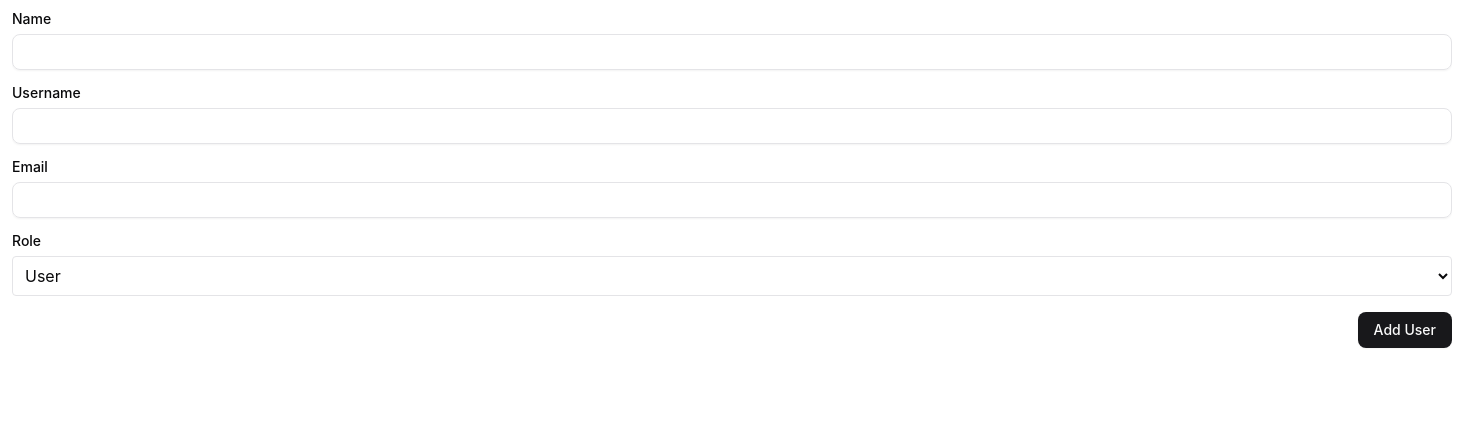
Test: AddUserForm › shows validation errors if submitted empty
Click the button "Add User" at (1405, 330), box [1358, 312, 1452, 348]
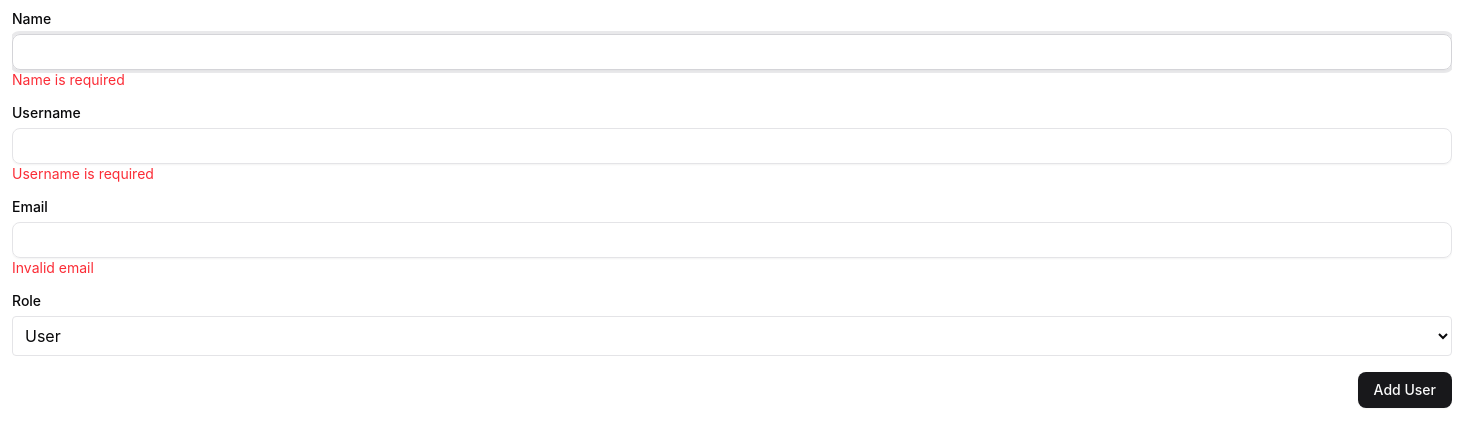
Check: the text "Name is required" is shown, box [12, 71, 125, 88]
Check: the text "Username is required" is shown, box [12, 165, 154, 182]
Check: the text "Invalid email" is shown, box [12, 259, 94, 276]
